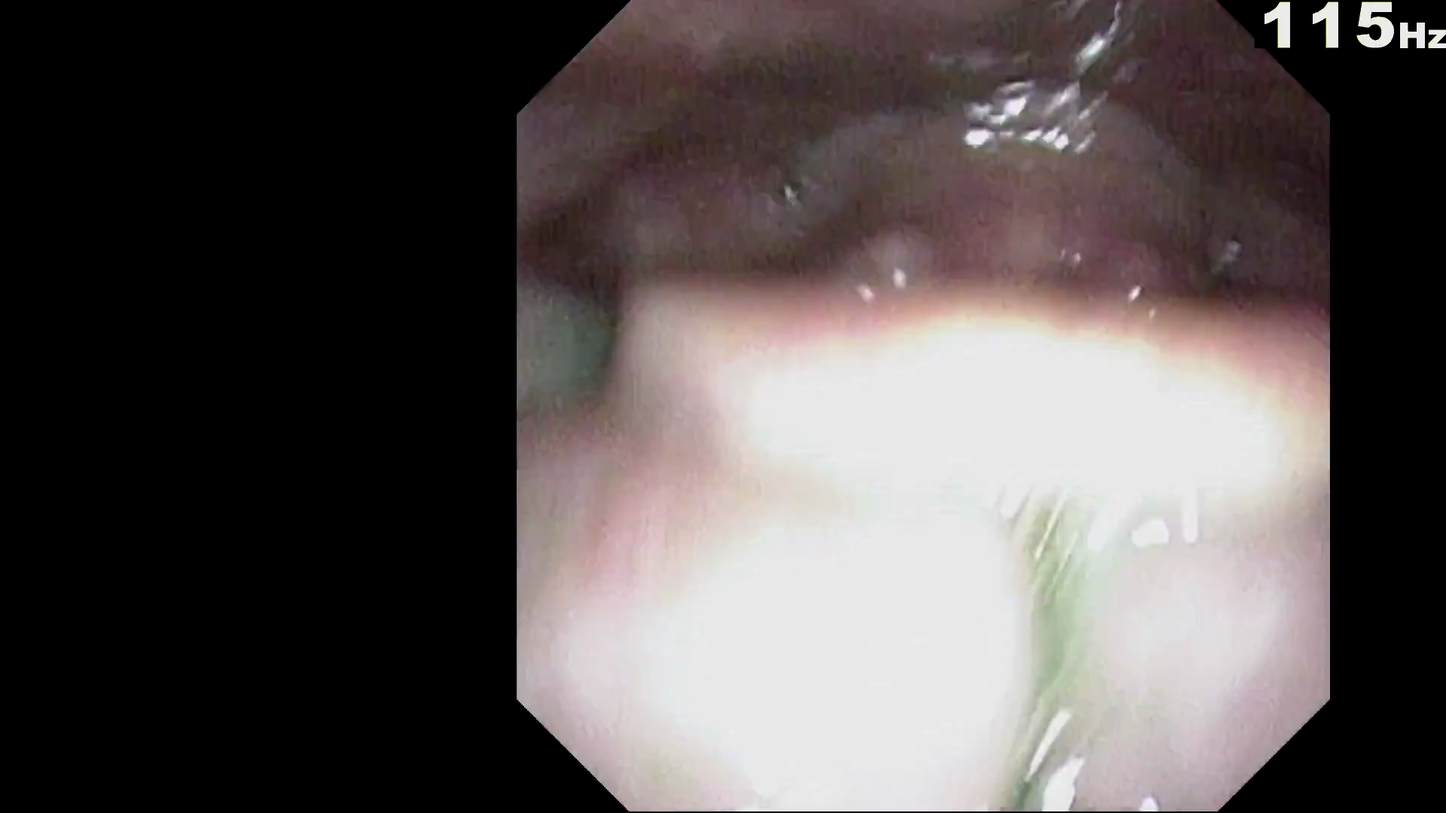epiglottis: (714, 385, 1322, 594)
trachea: (922, 353, 1058, 504)
